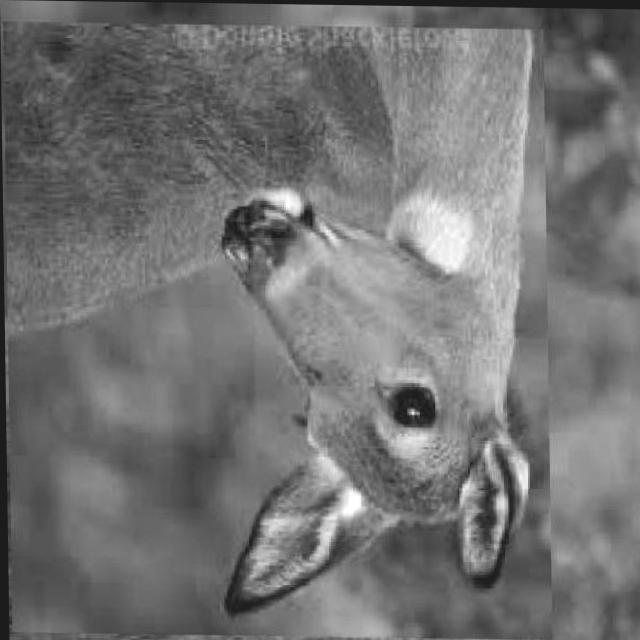Deer: (3, 21, 554, 640)
